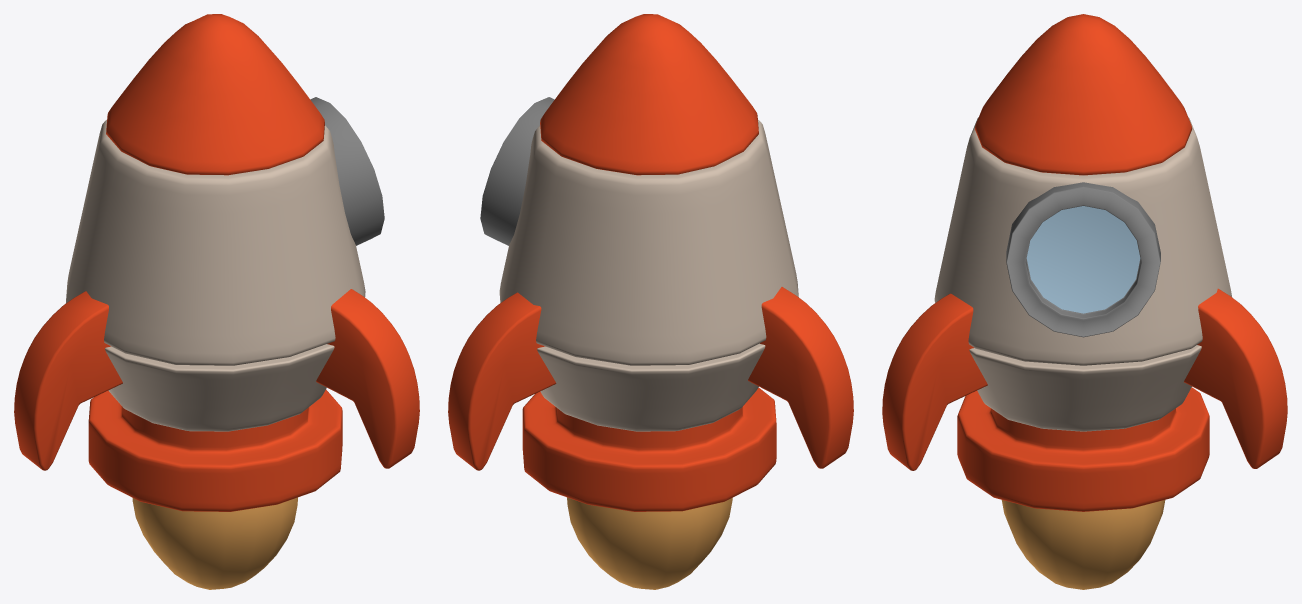
Rendered from spaceship.glb.
The picture shows the model from 3 angles, left to right: view 1: azimuth 30°, elevation 25°; view 2: azimuth 150°, elevation 25°; view 3: azimuth 270°, elevation 25°; orthographic projection.
Visible parts, largest first — view 1: rocked; view 2: rocked; view 3: rocked.
Boxes of the visible parts, left/top/right/bottom form: rocked: left=14, top=14, right=419, bottom=589; rocked: left=448, top=14, right=853, bottom=589; rocked: left=882, top=14, right=1287, bottom=589.
Bounding box in the file's own units: 1.28 × 2.07 × 1.34.
